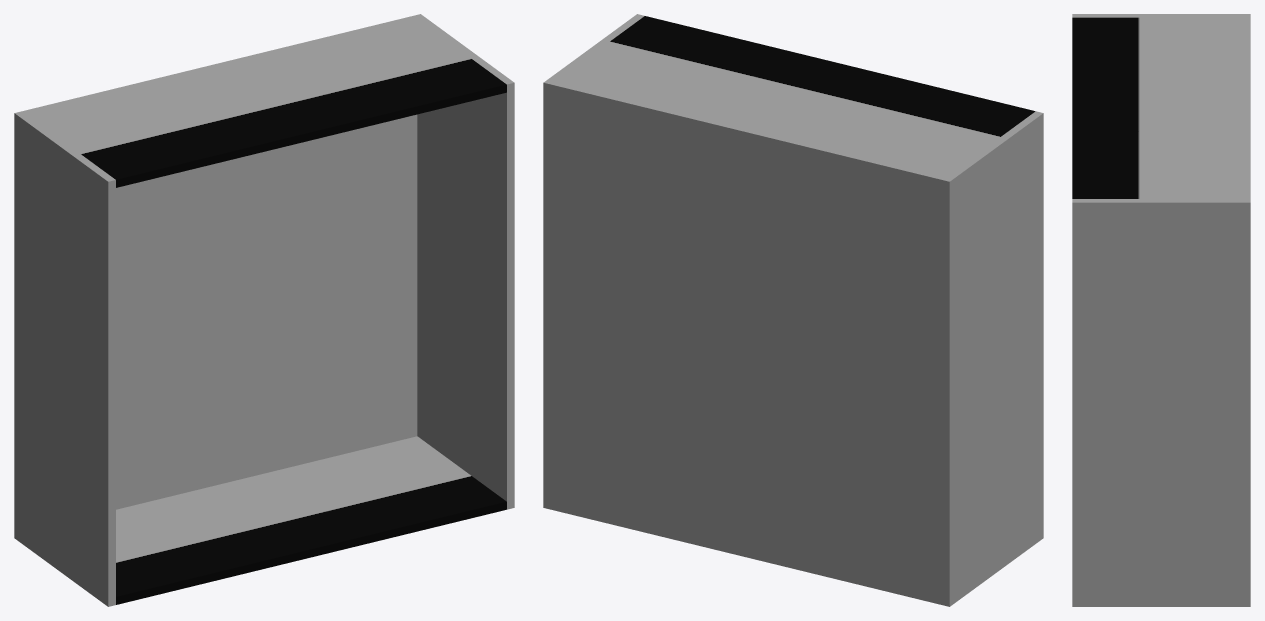
The model's file is meuble_68fb29325428d.glb.
3 views of the same model, side by side, from view 1: azimuth 30°, elevation 25°; view 2: azimuth 150°, elevation 25°; view 3: azimuth 270°, elevation 25° (orthographic). The views are drawn at different scales.
Parts seen in each view (by area): view 1: world; view 2: world; view 3: world.
Part boxes in pixels (bbox=[...]): world: bbox=[14, 14, 514, 606]; world: bbox=[543, 14, 1043, 606]; world: bbox=[1072, 14, 1250, 606].
Size of the model in its own units: 1 by 1 by 0.4.
Materials: 1 (1 with a texture image).
